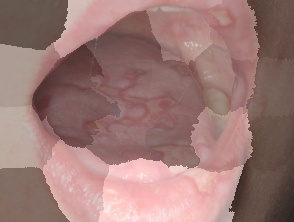SJS-TEN: (13, 0, 292, 222)
